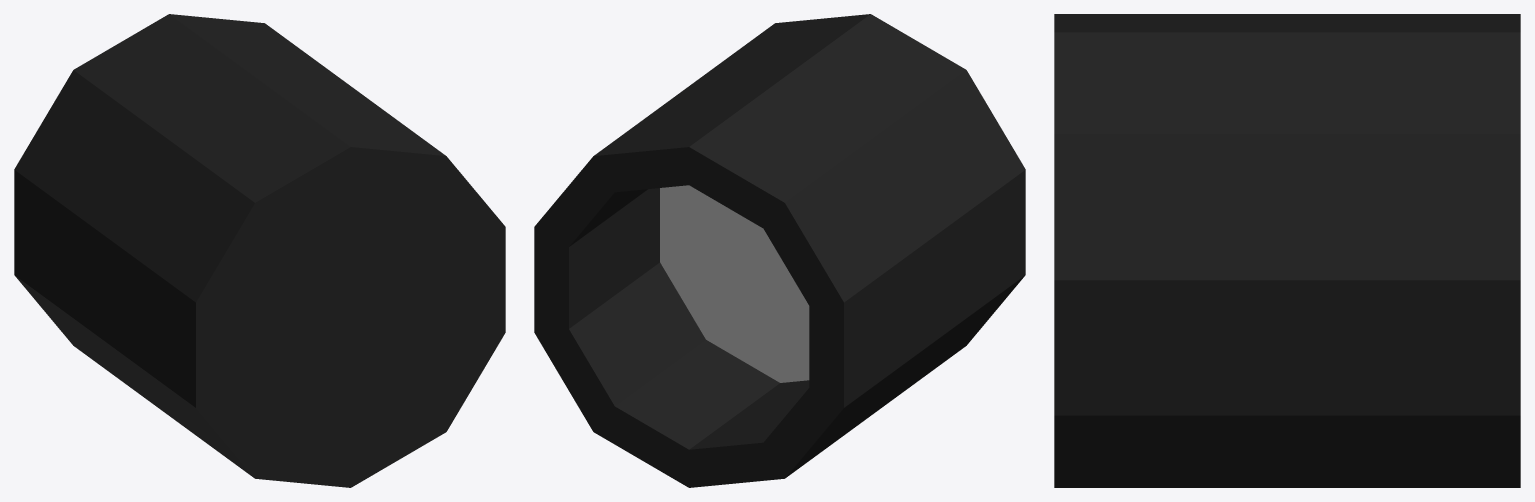
The model's file is exhaust2.glb.
3 views of the same model, side by side, from view 1: azimuth 30°, elevation 25°; view 2: azimuth 150°, elevation 25°; view 3: azimuth 270°, elevation 25° (orthographic). The views are drawn at different scales.
Parts seen in each view (by area): view 1: exhaust2; view 2: exhaust2; view 3: exhaust2.
Boxes of the visible parts, bbox=[...] form: exhaust2: bbox=[14, 14, 505, 487]; exhaust2: bbox=[534, 14, 1025, 487]; exhaust2: bbox=[1054, 14, 1520, 487].
Size of the model in its own units: 0.2433 by 0.2559 by 0.2472.
1 material, 1 textured.
